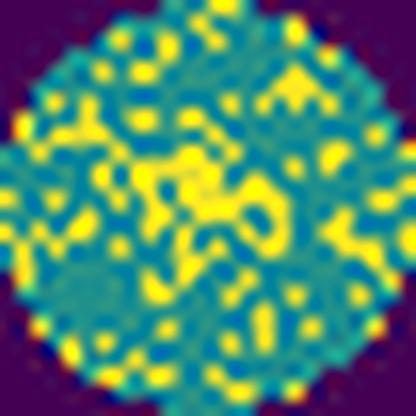Center: (131, 146, 292, 257)
